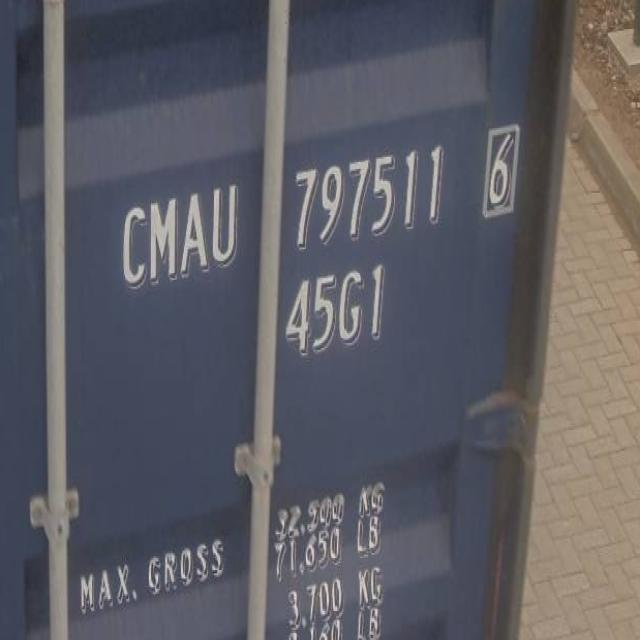dv: (478, 115, 522, 224)
owner: (118, 181, 244, 294)
serial: (287, 135, 453, 250)
size: (281, 259, 393, 363)
